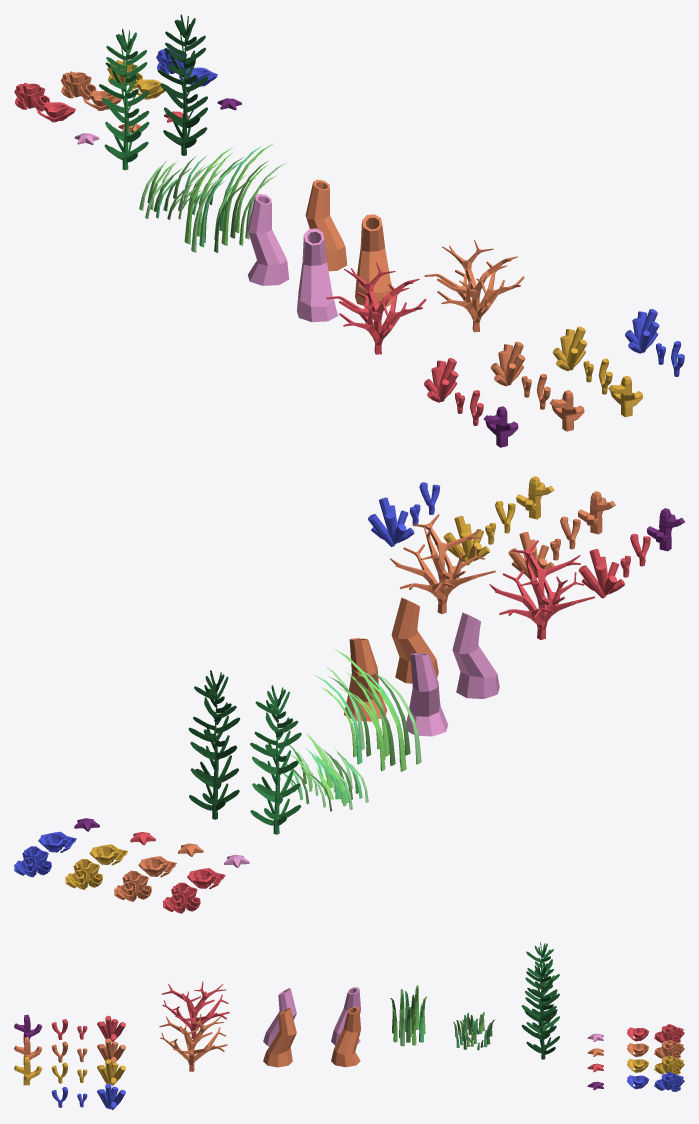
File: Seafloor Assets.fbx
The picture shows the model from 3 angles, top to bottom: view 1: azimuth 30°, elevation 25°; view 2: azimuth 150°, elevation 25°; view 3: azimuth 270°, elevation 25°; orthographic projection. The views are drawn at different scales.
Visible parts, largest first — view 1: SeagrassTall, SeaweedDarkGreen, SeaweedLightGreen, CoralChimney1Pink, CoralChimney2Pink, CoralBranchRed, CoralBranchOrange, CoralChimney1Orange, SeagrassShort, CoralChimney2Orange, CoralTubeClumpBlue, CoralTubeClumpOrange (+7 smaller); view 2: SeagrassTall, SeaweedLightGreen, SeaweedDarkGreen, CoralBranchRed, CoralBranchOrange, CoralChimney1Pink, SeagrassShort, CoralChimney2Pink, CoralChimney1Orange, CoralChimney2Orange, CoralTubeClumpBlue, CoralTubeClumpRed (+9 smaller); view 3: SeaweedDarkGreen, SeagrassTall, CoralChimney2Orange, CoralChimney1Orange, CoralBranchOrange, CoralBranchRed, SeaweedLightGreen, SeagrassShort, CoralChimney1Pink, CoralChimney2Pink, CoralTubeClumpBlue, CoralTubeClumpYellow (+9 smaller).
Boxes of the visible parts, x1,y1,x2,y2 form: SeagrassTall: (184, 143, 286, 252); SeaweedDarkGreen: (157, 14, 208, 155); SeaweedLightGreen: (99, 28, 149, 170); CoralChimney1Pink: (297, 228, 338, 322); CoralChimney2Pink: (247, 193, 289, 285); CoralBranchRed: (326, 262, 426, 354); CoralBranchOrange: (424, 240, 524, 332); CoralChimney1Orange: (355, 214, 392, 307); SeagrassShort: (139, 155, 224, 219); CoralChimney2Orange: (305, 179, 347, 271); CoralTubeClumpBlue: (625, 309, 659, 353); CoralTubeClumpOrange: (490, 341, 525, 386); SeagrassTall: (315, 649, 421, 771); SeaweedLightGreen: (250, 685, 301, 834); SeaweedDarkGreen: (188, 670, 240, 819); CoralBranchRed: (489, 540, 595, 639); CoralBranchOrange: (390, 514, 495, 613); CoralChimney1Pink: (452, 612, 499, 698); SeagrassShort: (282, 733, 368, 811); CoralChimney2Pink: (406, 653, 447, 736); CoralChimney1Orange: (391, 597, 438, 683); CoralChimney2Orange: (343, 638, 387, 721); CoralTubeClumpBlue: (368, 497, 414, 546); CoralTubeClumpRed: (578, 549, 624, 598); SeaweedDarkGreen: (521, 962, 559, 1059); SeagrassTall: (390, 985, 427, 1046); CoralChimney2Orange: (331, 1007, 360, 1067); CoralChimney1Orange: (263, 1008, 296, 1067); CoralBranchOrange: (159, 1013, 227, 1071); CoralBranchRed: (161, 981, 229, 1038); SeaweedLightGreen: (521, 942, 559, 1039); SeagrassShort: (453, 1012, 495, 1050); CoralChimney1Pink: (263, 988, 296, 1046); CoralChimney2Pink: (331, 987, 360, 1045); CoralTubeClumpBlue: (97, 1083, 125, 1109); CoralTubeClumpYellow: (97, 1059, 125, 1085).
Bounding box in the file's own units: 5020 × 2610 × 16000.
